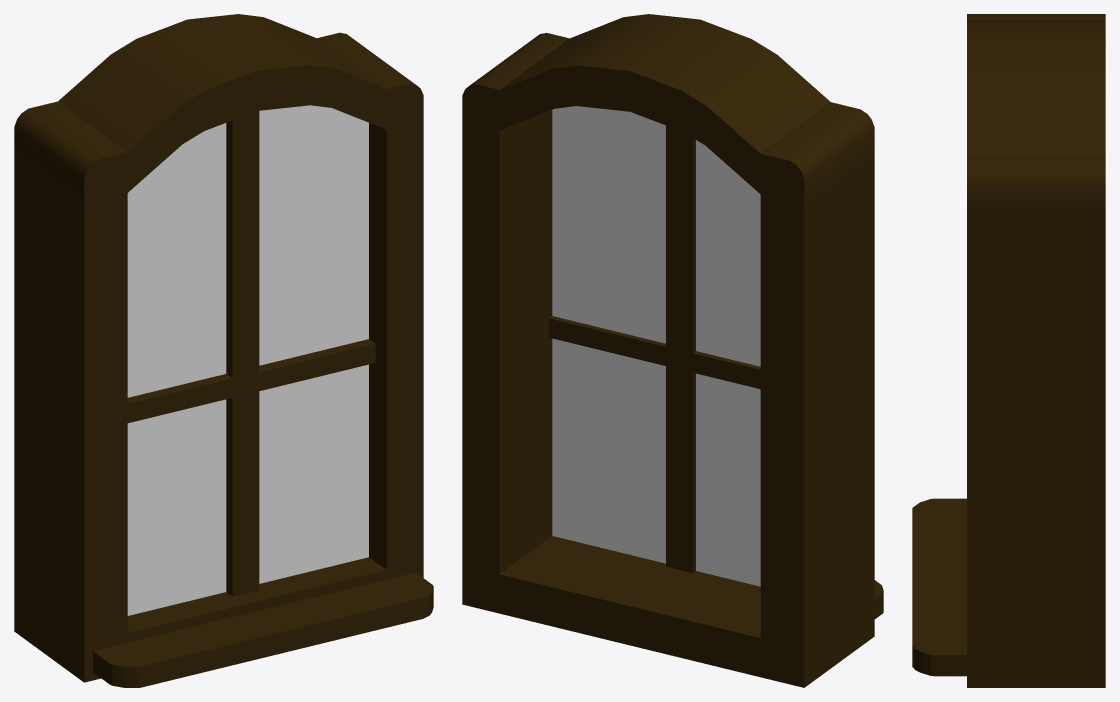
File: Window.fbx
3 views of the same model, side by side, from view 1: azimuth 30°, elevation 25°; view 2: azimuth 150°, elevation 25°; view 3: azimuth 270°, elevation 25° (orthographic).
Visible parts, largest first — view 1: Plane.004, Plane.005; view 2: Plane.004, Plane.005; view 3: Plane.004.
Part boxes in pixels (x1,y1,x2,y2): Plane.004: [14, 14, 433, 687]; Plane.005: [127, 105, 368, 615]; Plane.004: [462, 14, 883, 687]; Plane.005: [552, 106, 760, 586]; Plane.004: [912, 14, 1105, 687].
Size of the model in its own units: 173 by 277 by 85.98.
